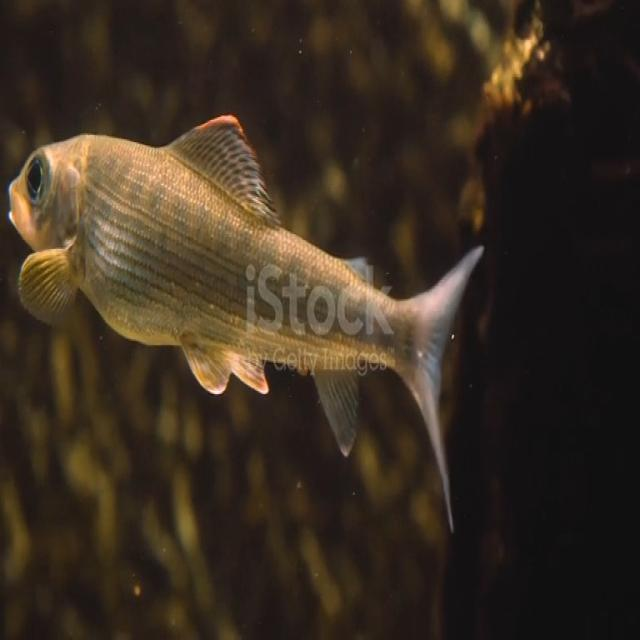fish: (6, 92, 487, 535)
